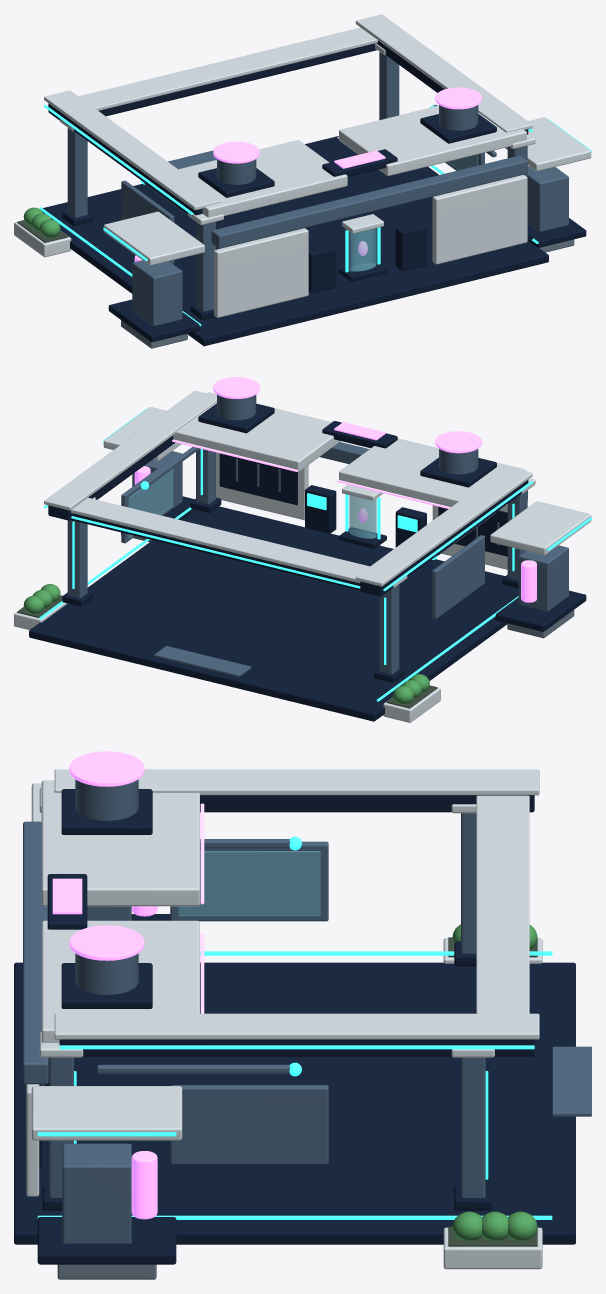
The model's file is LAB_Tier_4.glb.
The picture shows the model from 3 angles, top to bottom: view 1: azimuth 30°, elevation 25°; view 2: azimuth 150°, elevation 25°; view 3: azimuth 270°, elevation 25°; orthographic projection. The views are drawn at different scales.
Visible parts, largest first — view 1: LAB_Floor_Fascia.003, LAB_Wall_Straight_R.003, LAB_Wall_Straight_L.003, LAB_Back_Header.003, LAB_Entrance_HeaderCap.003, LAB_Roof_Back_R.003, LAB_Roof_Back_L.003, LAB_Roof_BeamCap_L.003, LAB_Roof_BeamCap_R.003, LAB_Wing_Roof_L.001, LAB_Wing_Equipment_L.001, LAB_Wing_Equipment_R.001 (+27 smaller); view 2: LAB_Floor_Fascia.003, LAB_Entrance_HeaderCap.003, LAB_Roof_Back_R.003, LAB_Roof_Back_L.003, LAB_Roof_BeamCap_L.003, LAB_Roof_BeamCap_R.003, LAB_Wing_Roof_L.001, LAB_Window_Frame_L.003, LAB_Wall_Inset_R.003, LAB_Wing_Equipment_L.001, LAB_Window_Frame_R.003, LAB_Entrance_Header.003 (+33 smaller); view 3: LAB_Floor_Fascia.003, LAB_Roof_Back_L.003, LAB_Roof_BeamCap_R.003, LAB_Window_Frame_R.003, LAB_Entrance_HeaderCap.003, LAB_Roof_BeamCap_L.003, LAB_Window_Frame_L.003, LAB_Roof_Back_R.003, LAB_GlassPanel_L.003, LAB_Wing_Roof_R.001, LAB_Wing_Equipment_R.001, LAB_Roof_Beam_R.003 (+29 smaller).
Part boxes in pixels (x1=…): LAB_Floor_Fascia.003: x1=42, y1=136, x2=548, y2=346; LAB_Wall_Straight_R.003: x1=432, y1=174, x2=527, y2=264; LAB_Wall_Straight_L.003: x1=214, y1=228, x2=308, y2=317; LAB_Back_Header.003: x1=211, y1=155, x2=527, y2=248; LAB_Entrance_HeaderCap.003: x1=79, y1=27, x2=377, y2=110; LAB_Roof_Back_R.003: x1=339, y1=105, x2=526, y2=175; LAB_Roof_Back_L.003: x1=178, y1=140, x2=347, y2=217; LAB_Roof_BeamCap_L.003: x1=44, y1=90, x2=220, y2=210; LAB_Roof_BeamCap_R.003: x1=355, y1=14, x2=532, y2=132; LAB_Wing_Roof_L.001: x1=103, y1=211, x2=204, y2=265; LAB_Wing_Equipment_L.001: x1=132, y1=260, x2=182, y2=326; LAB_Wing_Equipment_R.001: x1=527, y1=166, x2=568, y2=231; LAB_Floor_Fascia.003: x1=29, y1=506, x2=518, y2=721; LAB_Entrance_HeaderCap.003: x1=71, y1=497, x2=369, y2=583; LAB_Roof_Back_R.003: x1=173, y1=392, x2=340, y2=471; LAB_Roof_Back_L.003: x1=339, y1=438, x2=526, y2=506; LAB_Roof_BeamCap_L.003: x1=355, y1=466, x2=532, y2=586; LAB_Roof_BeamCap_R.003: x1=44, y1=390, x2=216, y2=510; LAB_Wing_Roof_L.001: x1=490, y1=501, x2=591, y2=555; LAB_Window_Frame_L.003: x1=432, y1=535, x2=484, y2=618; LAB_Wall_Inset_R.003: x1=219, y1=453, x2=297, y2=505; LAB_Wing_Equipment_L.001: x1=518, y1=545, x2=568, y2=611; LAB_Window_Frame_R.003: x1=121, y1=459, x2=174, y2=543; LAB_Entrance_Header.003: x1=70, y1=513, x2=360, y2=590; LAB_Floor_Fascia.003: x1=14, y1=962, x2=575, y2=1244; LAB_Roof_Back_L.003: x1=41, y1=780, x2=199, y2=906; LAB_Roof_BeamCap_R.003: x1=54, y1=1013, x2=539, y2=1039; LAB_Window_Frame_R.003: x1=170, y1=1085, x2=328, y2=1164; LAB_Entrance_HeaderCap.003: x1=476, y1=795, x2=529, y2=1013; LAB_Roof_BeamCap_L.003: x1=54, y1=769, x2=539, y2=795; LAB_Window_Frame_L.003: x1=170, y1=841, x2=328, y2=921; LAB_Roof_Back_R.003: x1=41, y1=920, x2=199, y2=1042; LAB_GlassPanel_L.003: x1=178, y1=851, x2=320, y2=916; LAB_Wing_Roof_R.001: x1=31, y1=1086, x2=182, y2=1140; LAB_Wing_Equipment_R.001: x1=62, y1=1143, x2=131, y2=1244; LAB_Roof_Beam_R.003: x1=59, y1=1039, x2=534, y2=1056.
Size of the model in its own units: 41.78 by 14.52 by 29.2.
